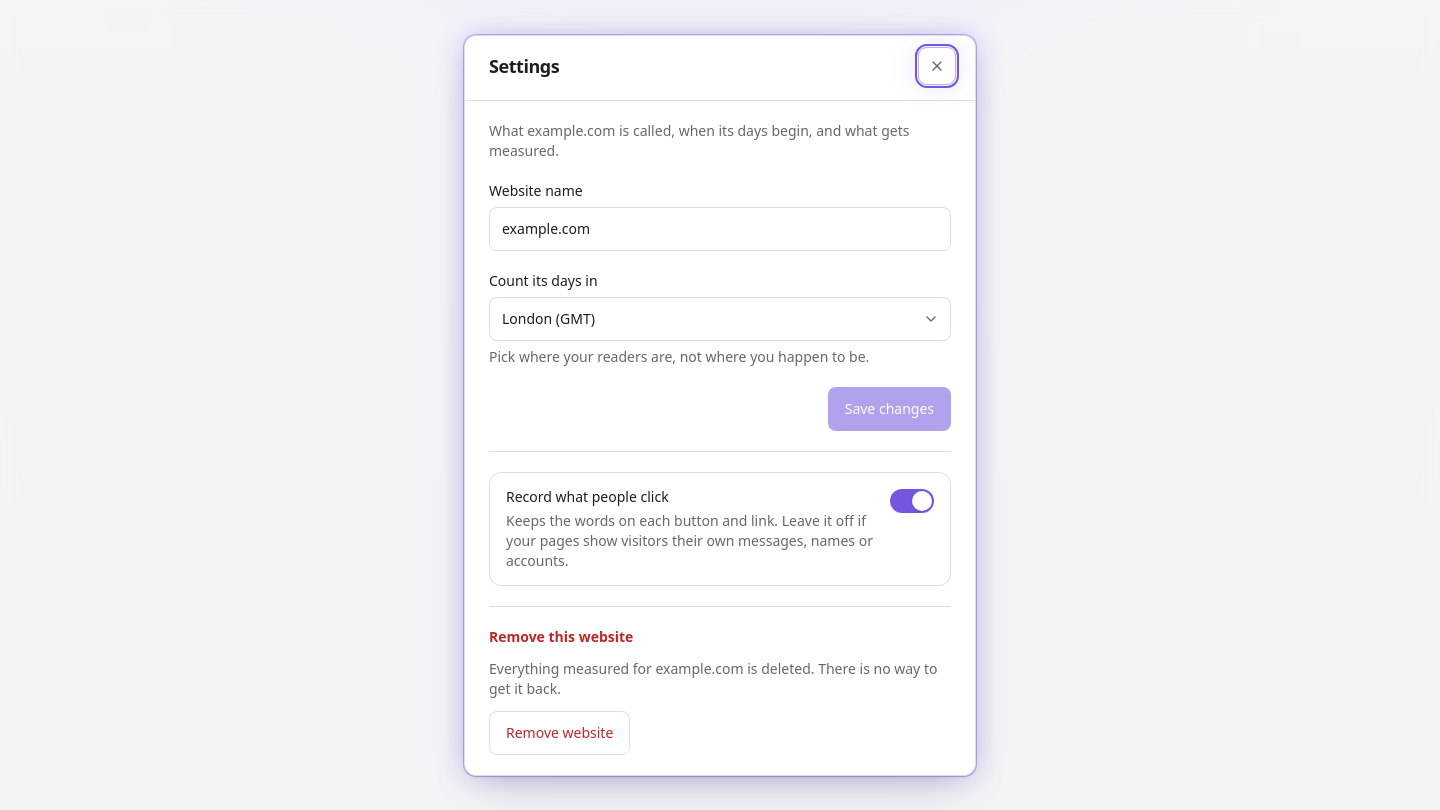
Test: what a website is called and when its days begin › settles on the name the engine ended up holding, not the one it was sent
Replace the text in the field labelled "Website name" with "Reader Weekly" at (720, 228), box [489, 206, 951, 250]
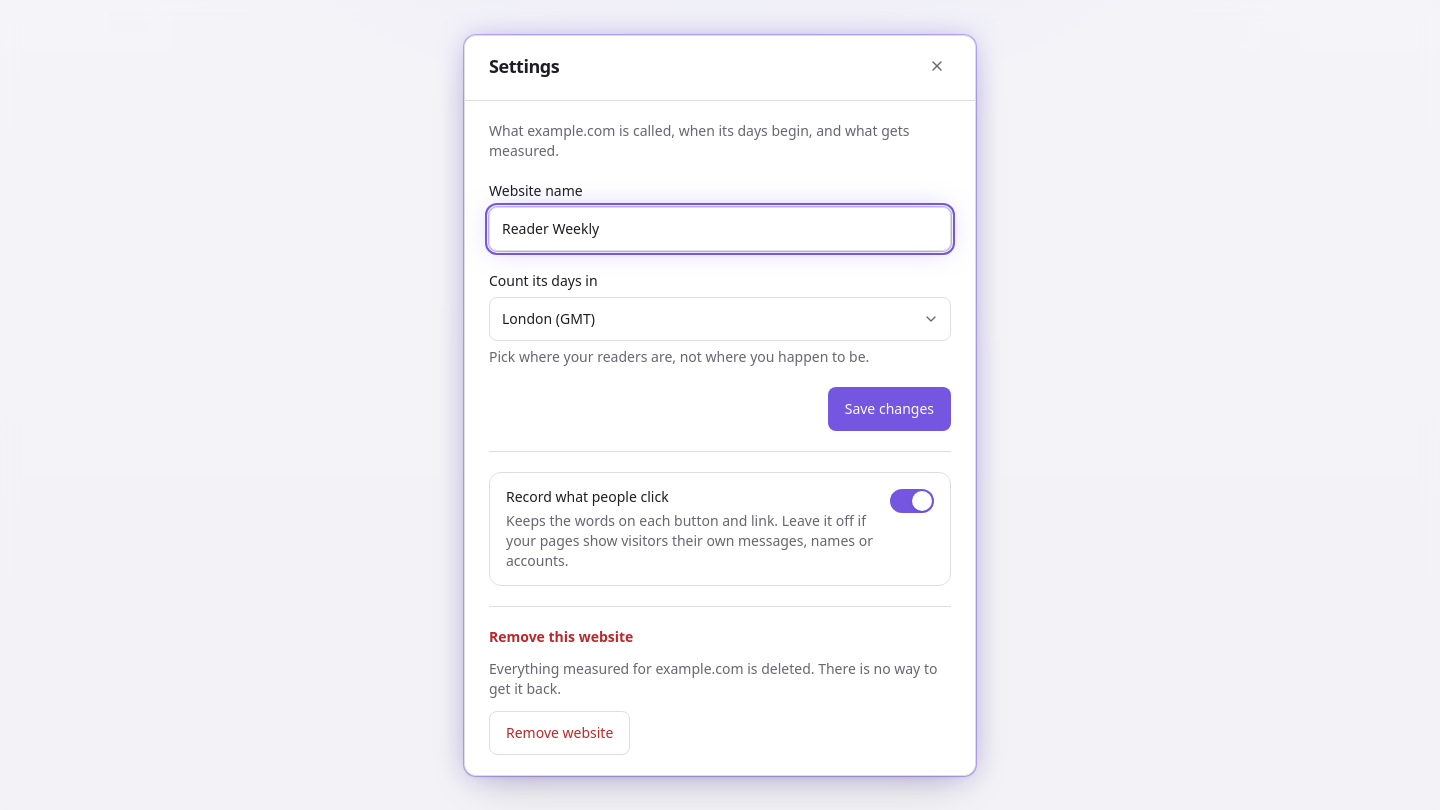
Click the button "Save changes" at (889, 408), box [828, 386, 951, 430]
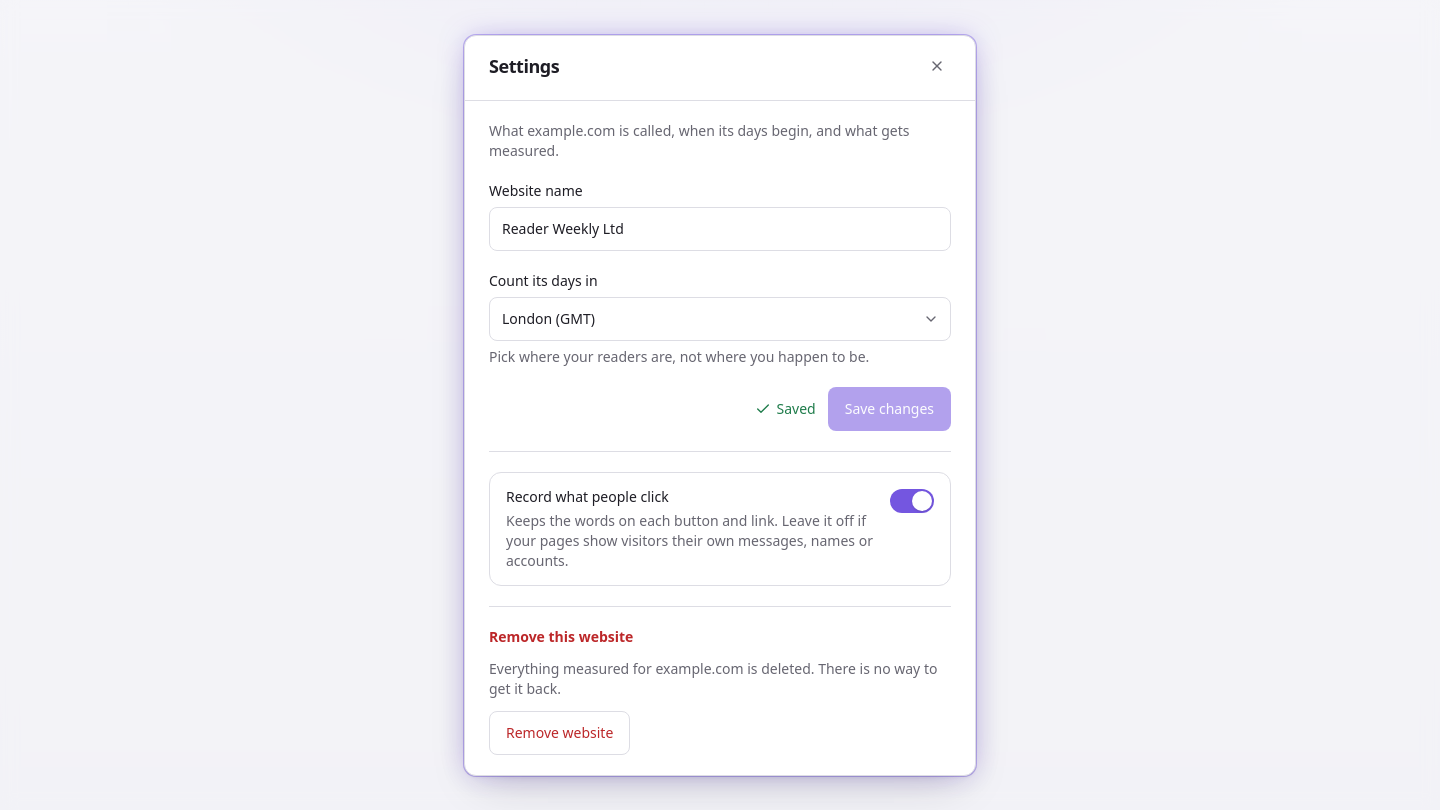
Expected: the field labelled "Website name" holds "Reader Weekly Ltd", [489, 206, 951, 250]
Expected: the button "Save changes" is disabled, [828, 386, 951, 430]
